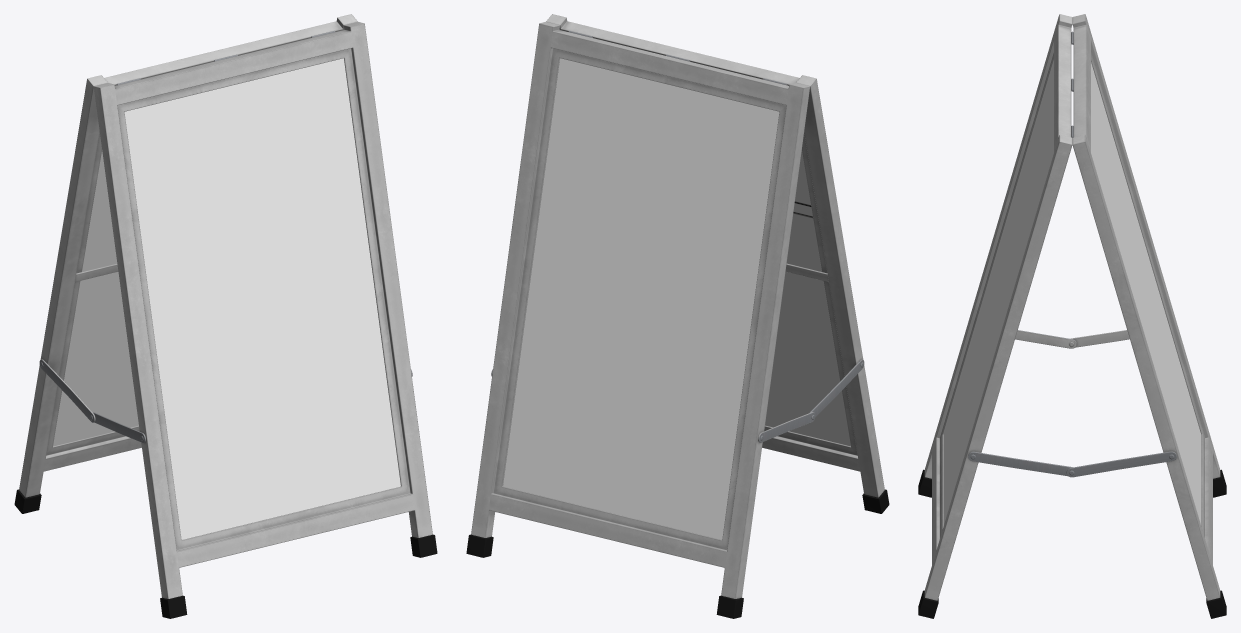
Rendered from banner.gltf.
3 renders of one model, left to right at view 1: azimuth 30°, elevation 25°; view 2: azimuth 150°, elevation 25°; view 3: azimuth 270°, elevation 25°, orthographic.
Visible parts, largest first — view 1: Box005; view 2: Box005; view 3: Box005.
Boxes of the visible parts, left/top/right/bottom form: Box005: left=14, top=14, right=437, bottom=618; Box005: left=466, top=14, right=889, bottom=618; Box005: left=918, top=14, right=1226, bottom=618.
Bounding box in the file's own units: 54.91 × 93.46 × 54.79.
2 materials, 2 textured.
